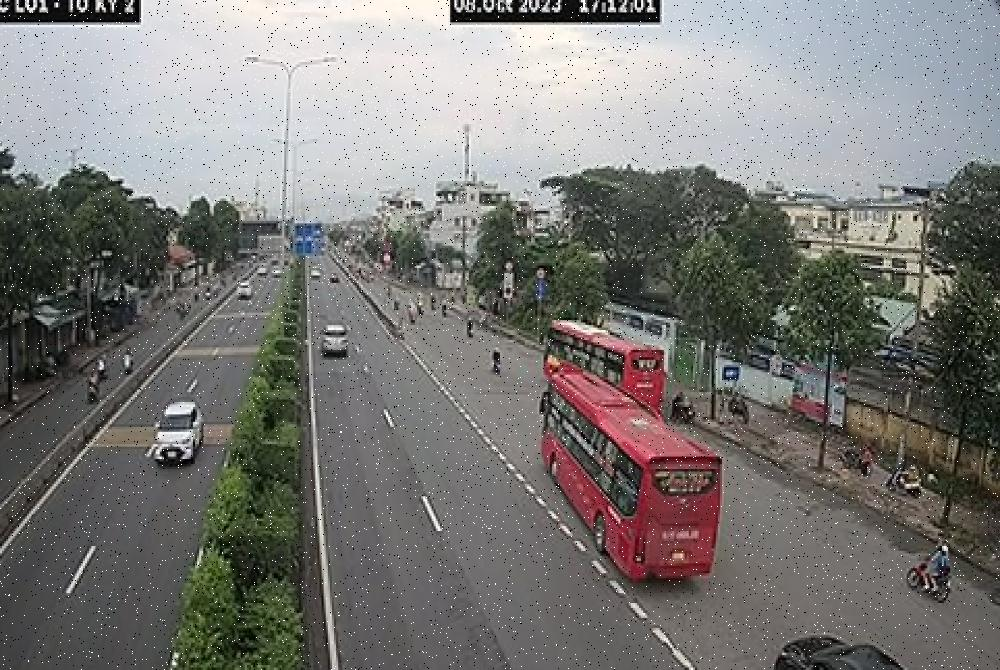bus: (538, 368, 723, 584), (544, 319, 667, 405)
car: (772, 635, 927, 670), (154, 403, 206, 468)
